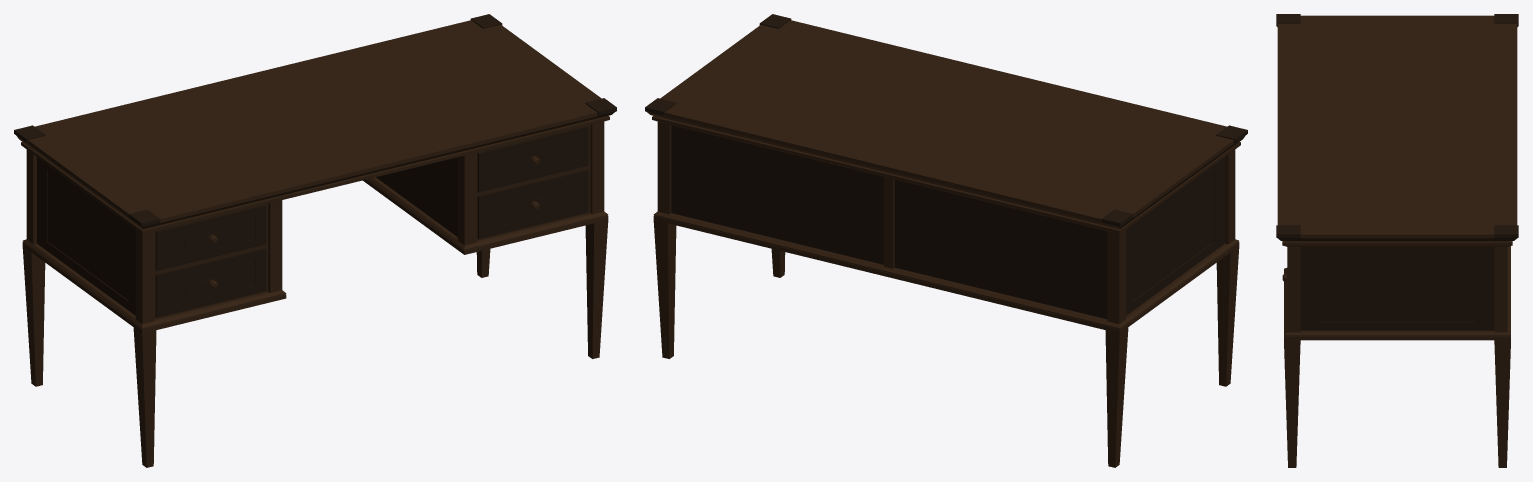
The model's file is Desk.obj.
3 renders of one model, left to right at view 1: azimuth 30°, elevation 25°; view 2: azimuth 150°, elevation 25°; view 3: azimuth 270°, elevation 25°, orthographic. The views are drawn at different scales.
Parts seen in each view (by area): view 1: Desk_Cube.004, Desk_Drawer4_Cube.006, Desk_Drawer2_Cube.005, Desk_Drawer3_Cube.007, Desk_Drawer1_Cube.002; view 2: Desk_Cube.004; view 3: Desk_Cube.004.
Boxes of the visible parts, left/top/right/bottom form: Desk_Cube.004: left=14, top=14, right=616, bottom=467; Desk_Drawer4_Cube.006: left=155, top=248, right=266, bottom=317; Desk_Drawer2_Cube.005: left=477, top=169, right=588, bottom=238; Desk_Drawer3_Cube.007: left=155, top=204, right=266, bottom=270; Desk_Drawer1_Cube.002: left=477, top=126, right=588, bottom=192; Desk_Cube.004: left=645, top=14, right=1247, bottom=467; Desk_Cube.004: left=1276, top=14, right=1518, bottom=467.
Size of the model in its own units: 1.82 by 0.9225 by 0.8466.
